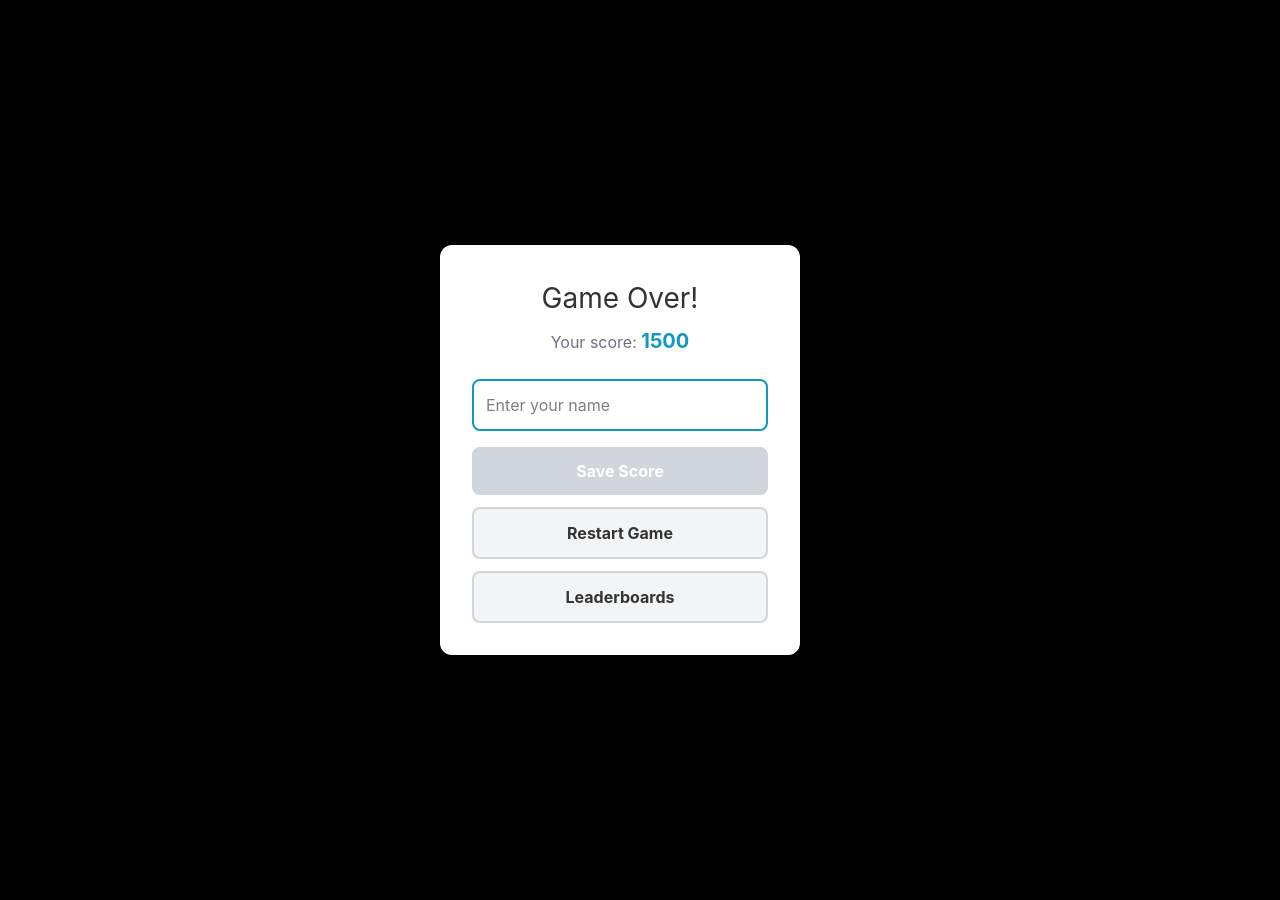
it: ScoreModal › disables save button after score is saved
The width and height of the screenshot is (1280, 900).
Step 1. Type "Carol" into the field with placeholder "Enter your name" → (620, 405), box 472,379 -> 768,431
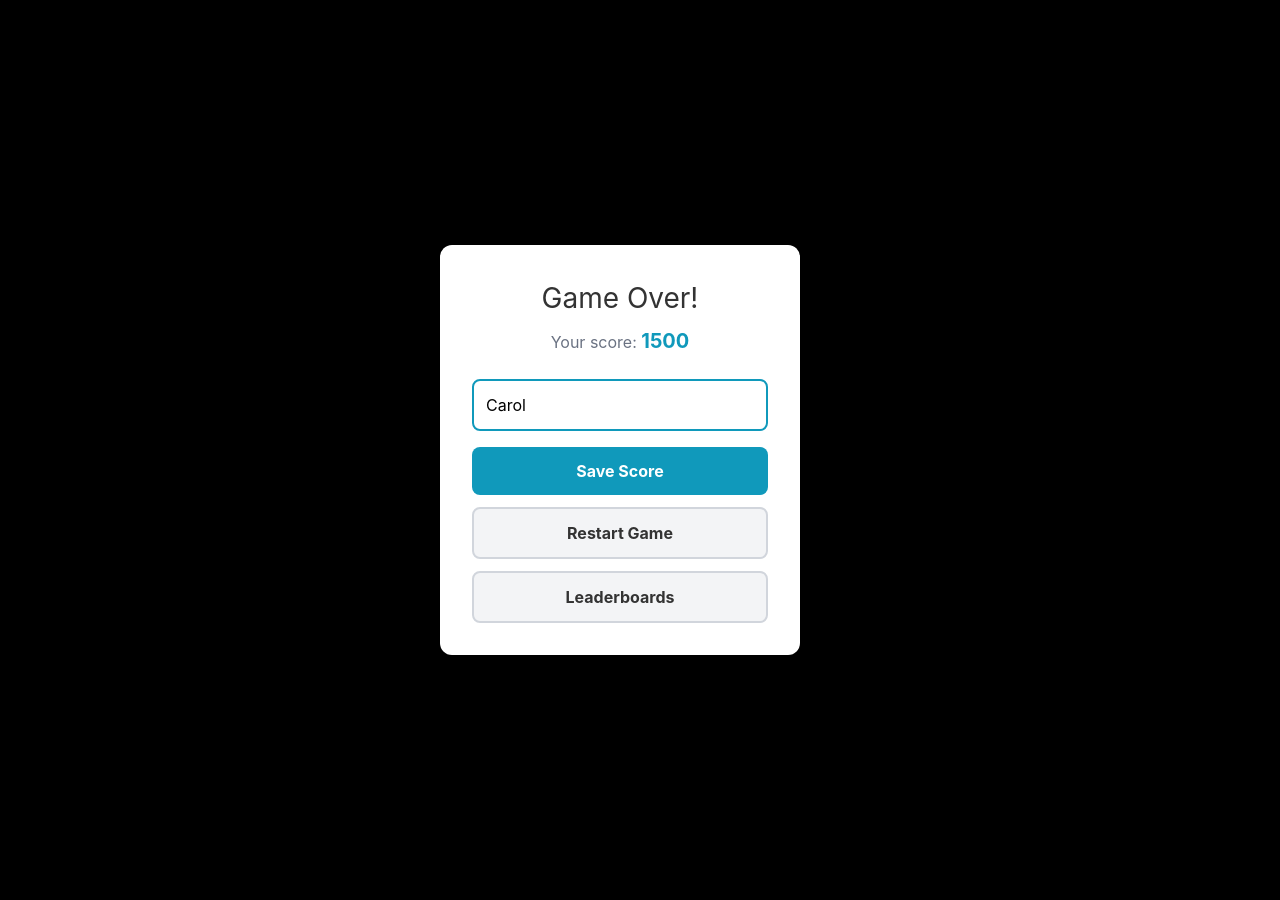
Step 2. Click the button "Save Score" → (620, 471), box 472,447 -> 768,495
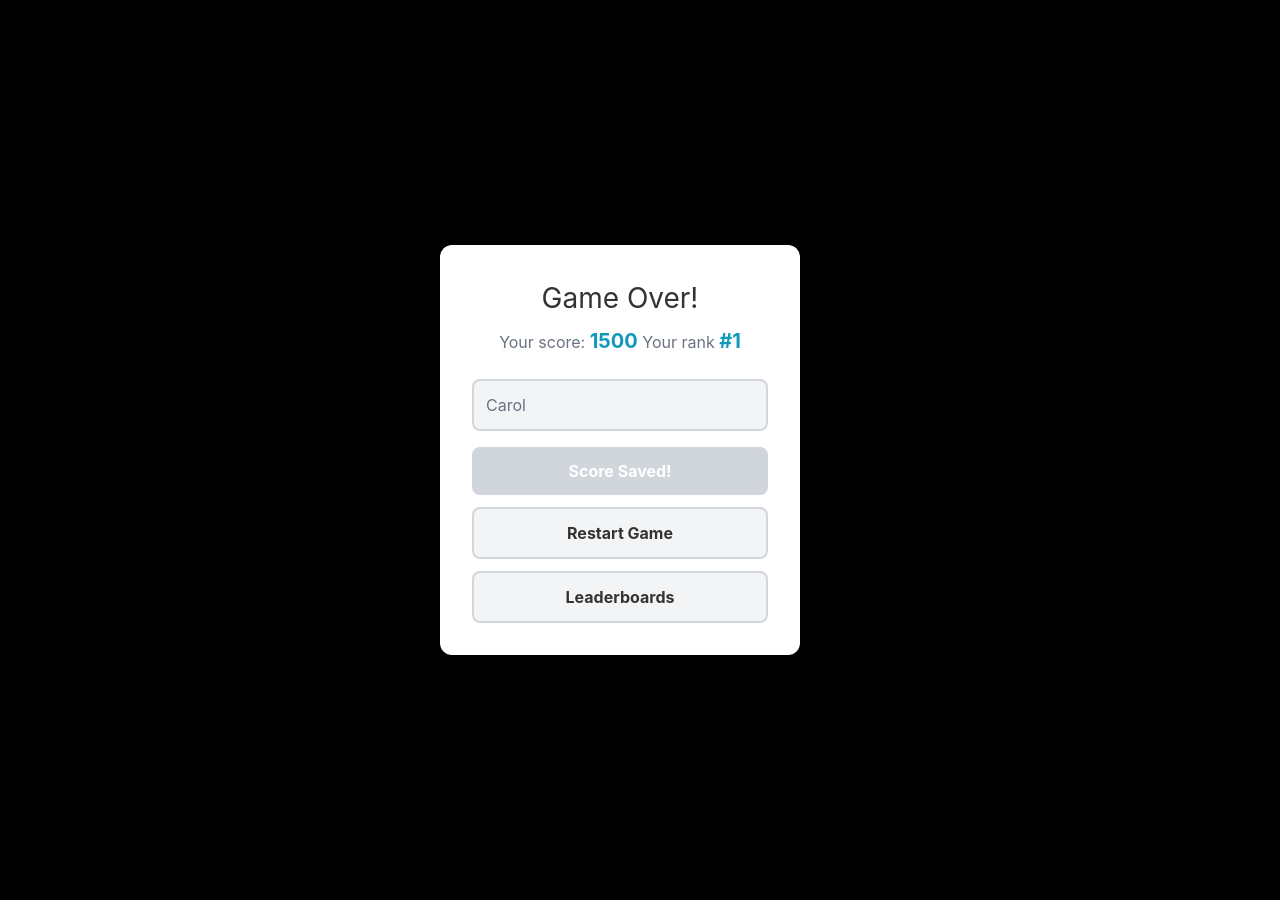
Check: the button "Score Saved!" is disabled, box 472,447 -> 768,495
